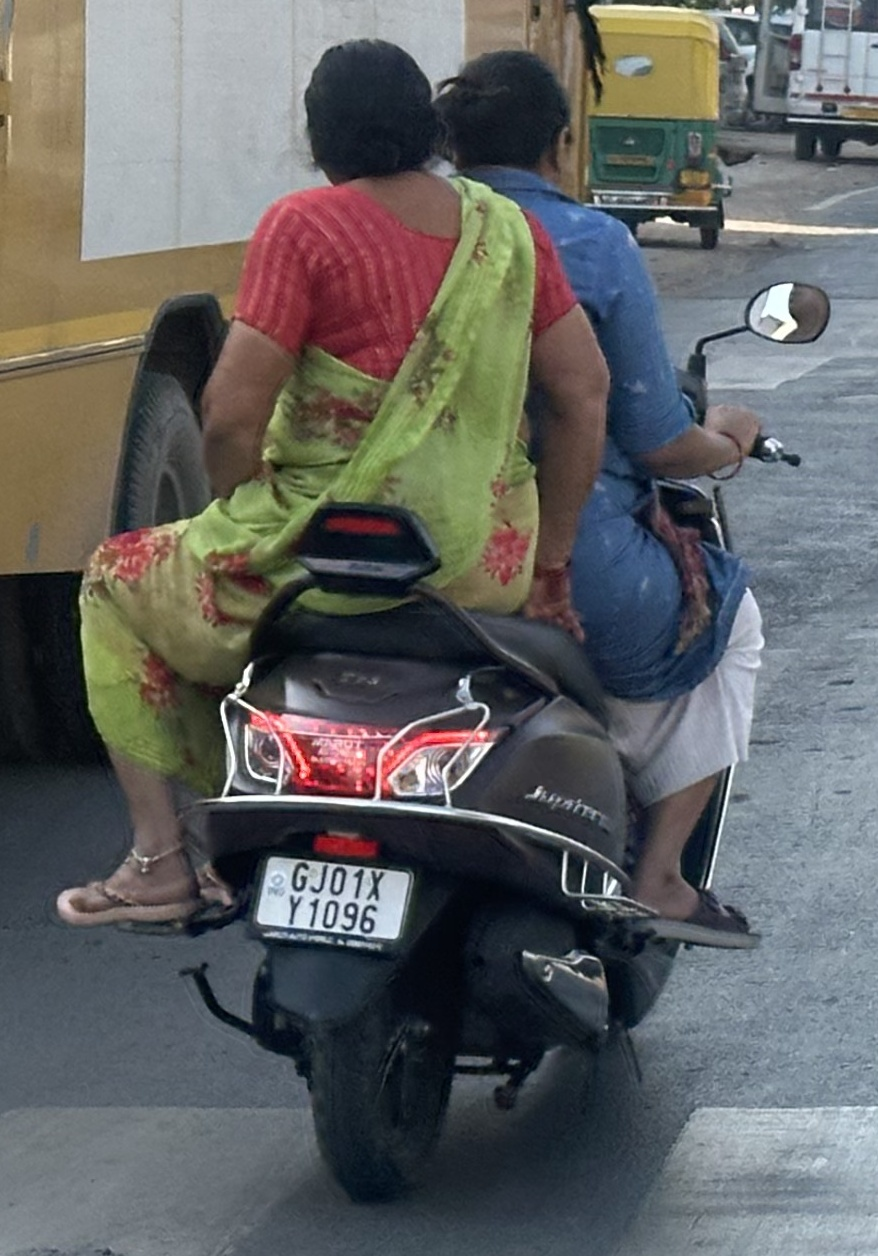BikeWithRider: (36, 27, 843, 1223)
NoHelmet: (284, 27, 455, 194), (422, 38, 588, 201)
